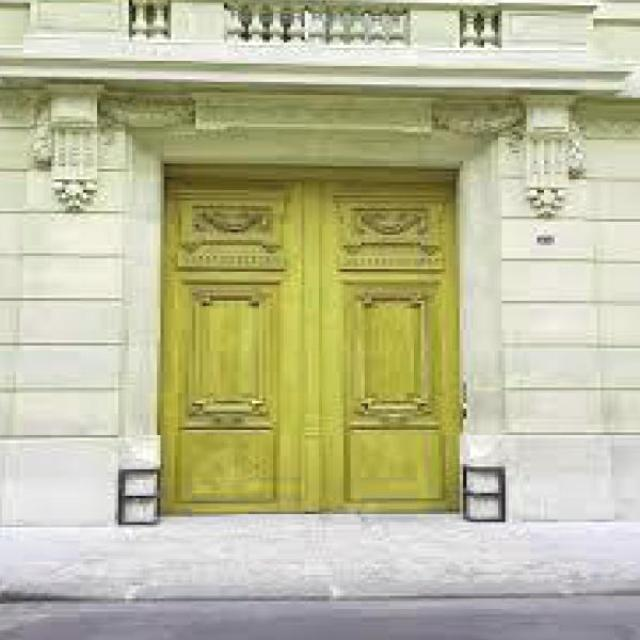door: (308, 166, 460, 514), (158, 165, 308, 514)
